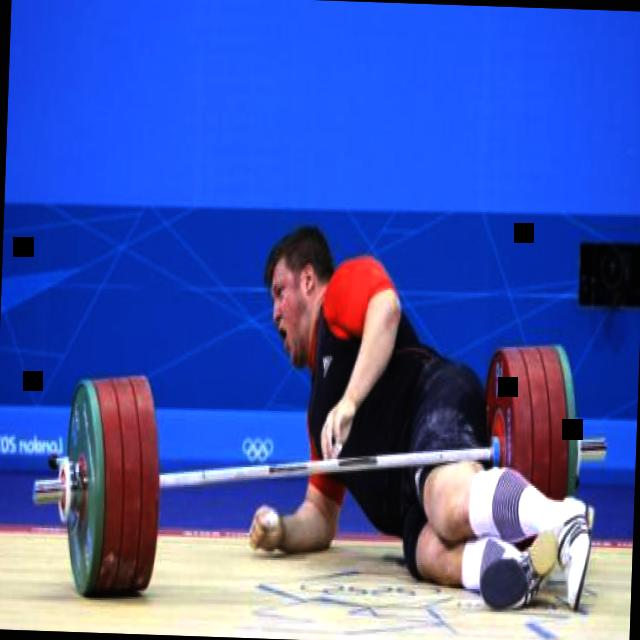Fall-Detected: (244, 208, 612, 622)
